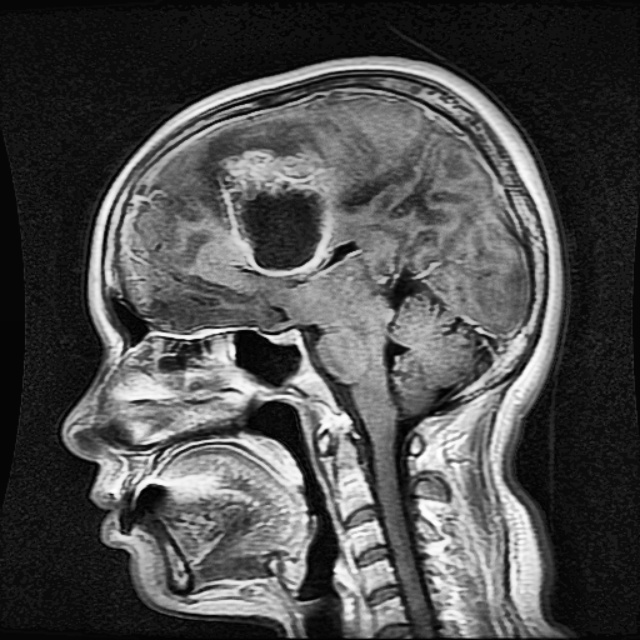Meningioma: (212, 147, 337, 279)
